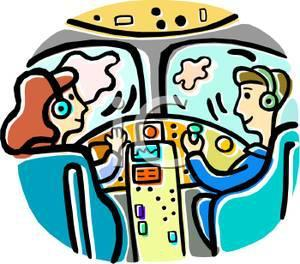chair: (7, 149, 136, 261), (209, 124, 296, 247)
person: (2, 72, 127, 186), (183, 70, 289, 191)
